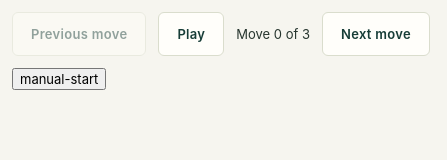
Test: advances exactly one move per second and stops at the end
Expected: the text "Move 0 of 3" is shown, [236,26,310,42]
Click the button "Play".
click(191, 34)  # box [158,12,224,56]
Wait 8000 ms
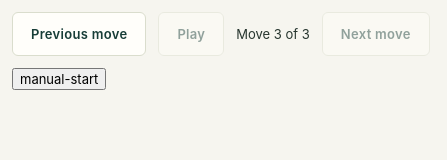
Now the button "Play" is disabled, box [158,12,224,56]
Now the text "Move 3 of 3" is shown, box [236,26,310,42]
